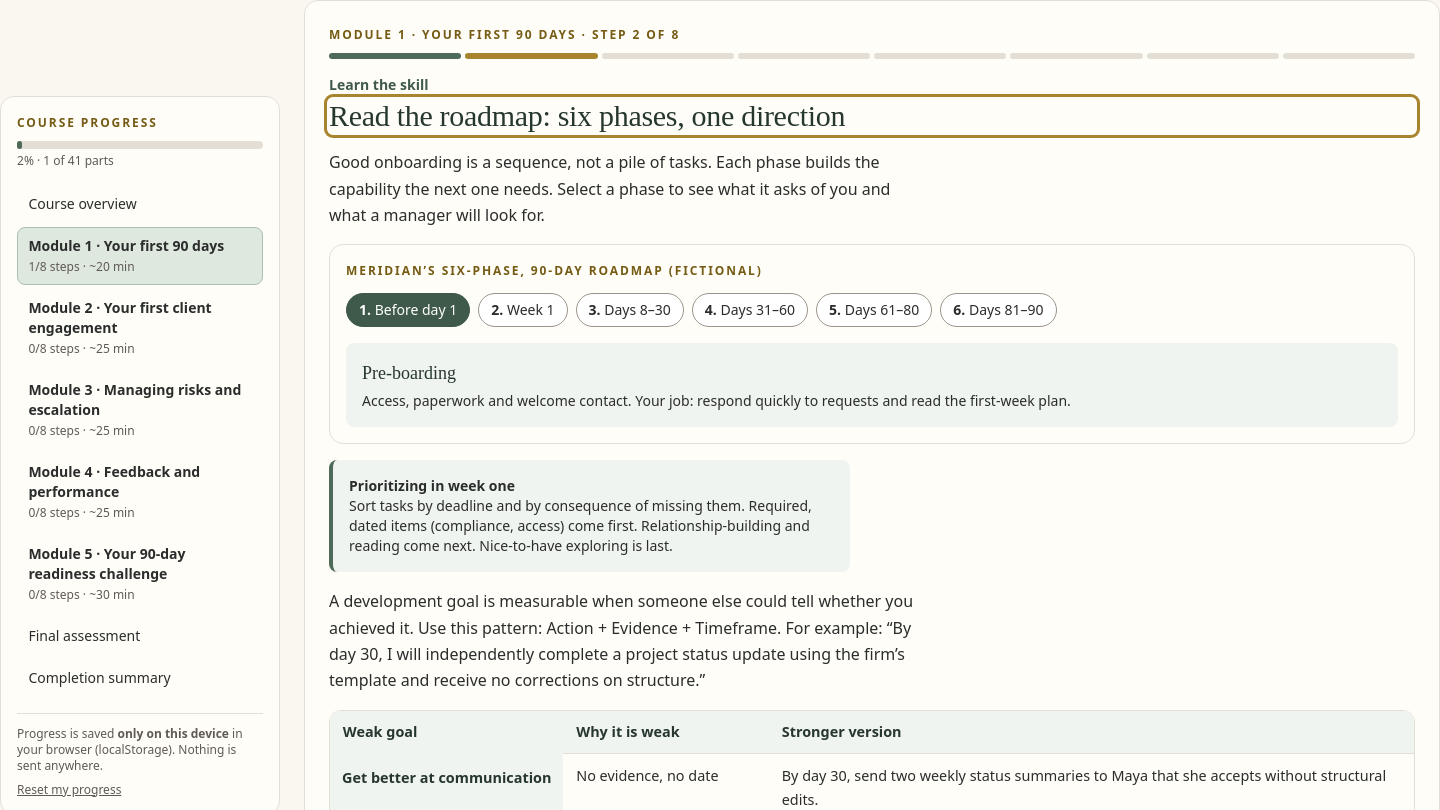
Scenario: CoursePlayer › restores saved progress after a remount and resets on confirmation
The image size is (1440, 810).
Earlier steps of the test are not shown.
Click the button "Reset my progress" at coordinates (69, 790), box [17,782,121,798]
(page scrolled)
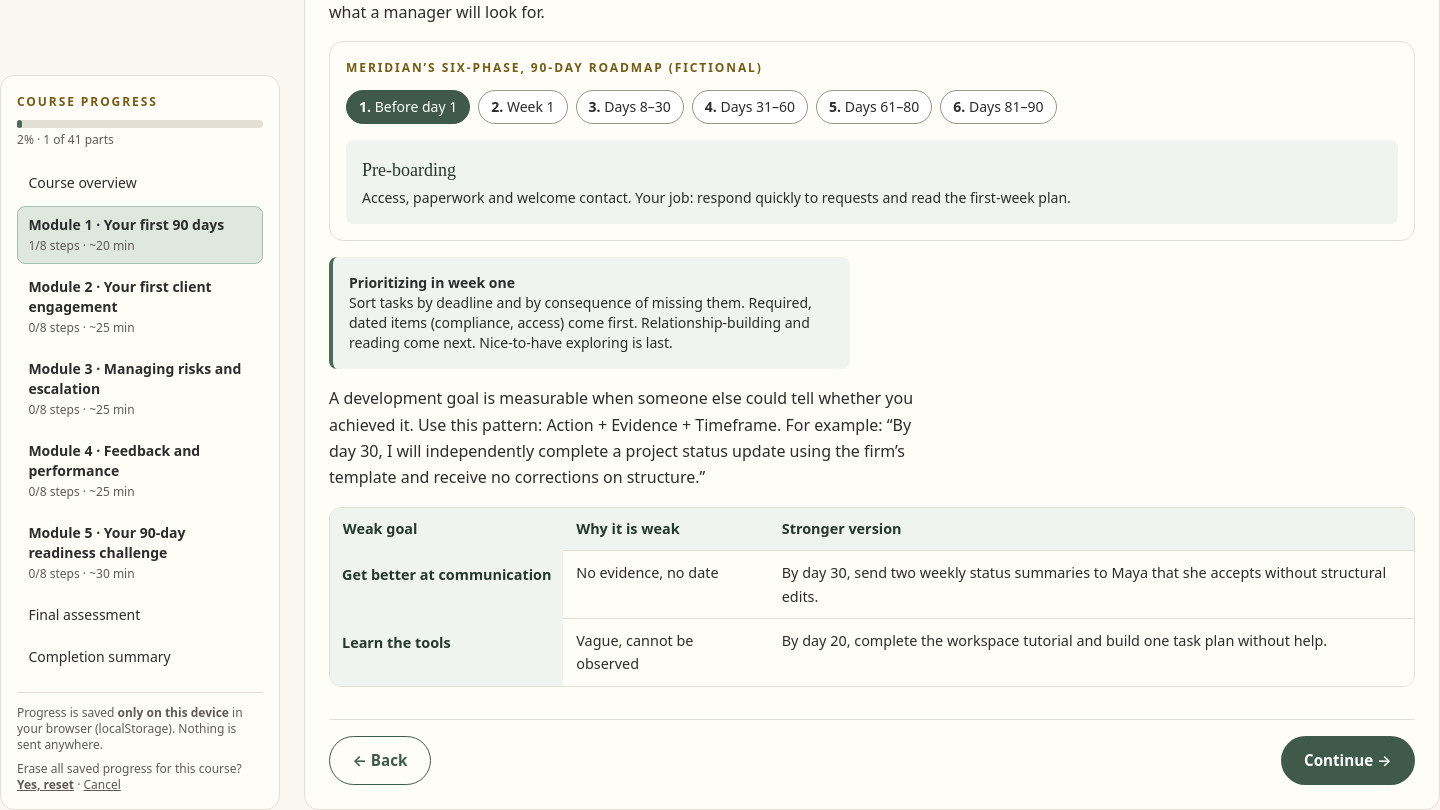
Click the button "Yes, reset" at coordinates (46, 785), box [17,777,74,793]
(page scrolled)
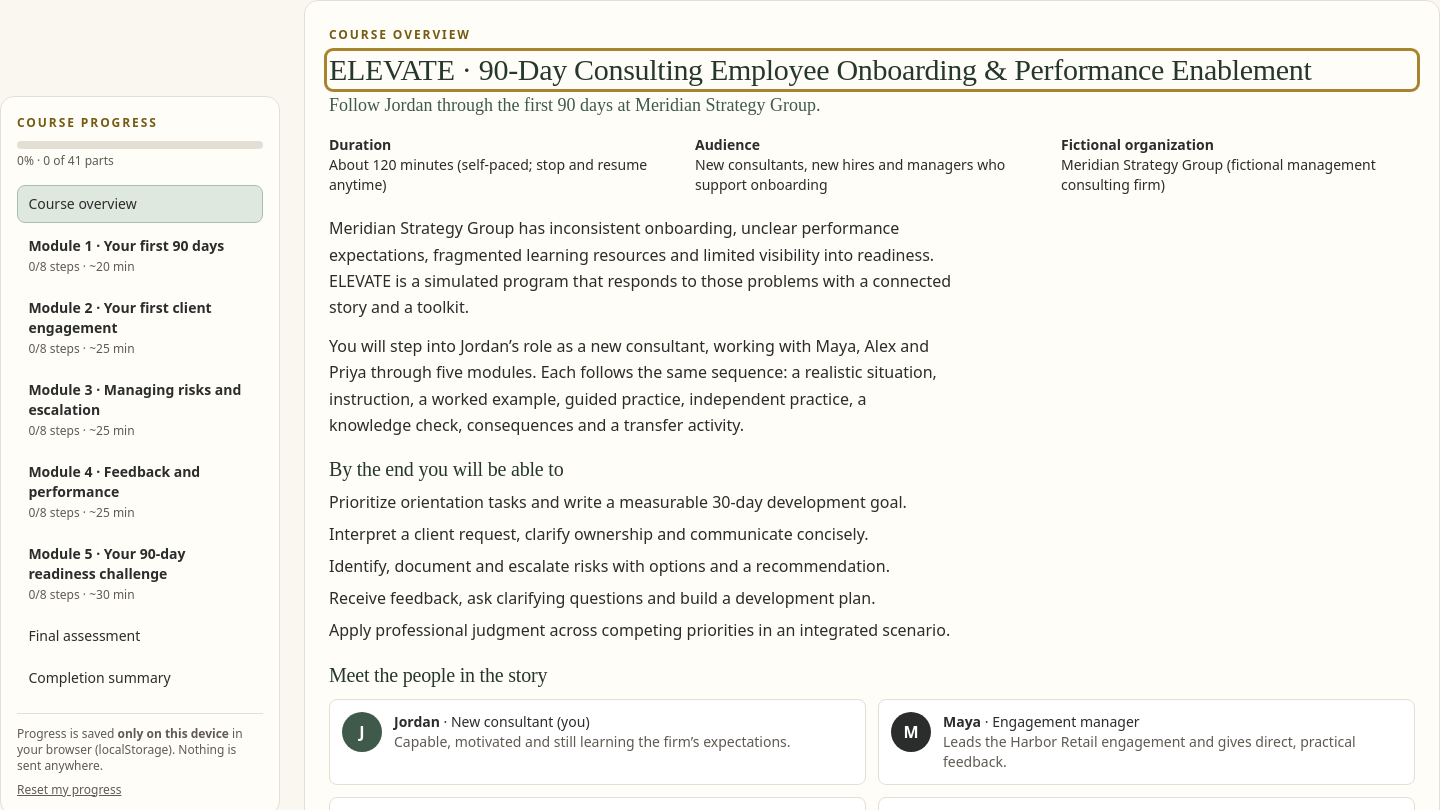
Expected: the progress indicator named "Course progress" has attribute aria-valuenow="0", [17,141,263,149]
